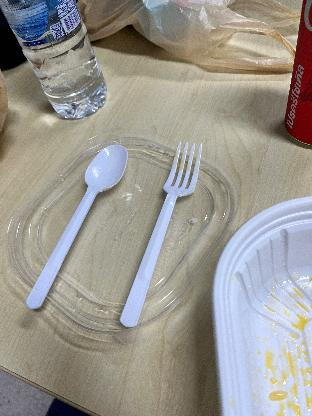Others: (31, 141, 133, 312), (121, 142, 207, 328)
Plastic Bottle: (0, 0, 110, 118)
